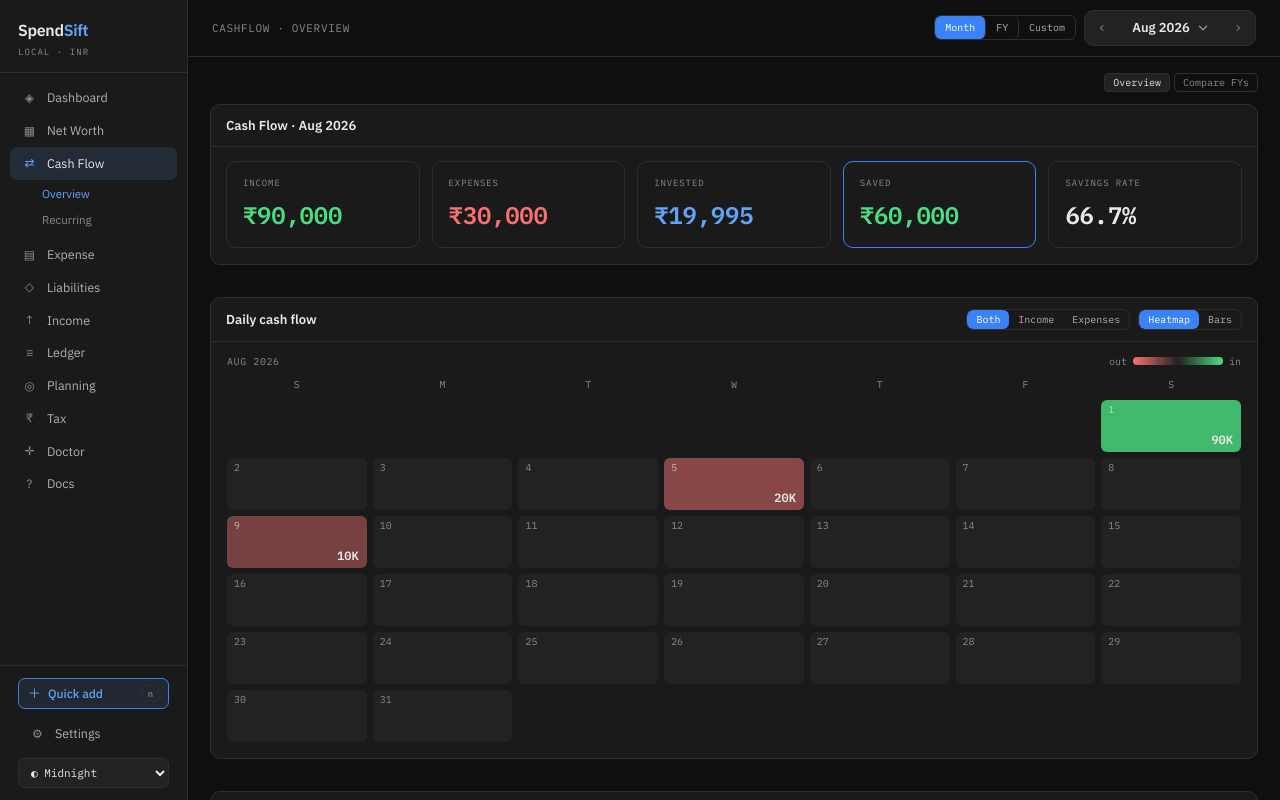
Test: Cash Flow · Overview | Compare FYs › the switch shows the FY columns and hides the period toggle
Expected: the text "Cash Flow · Aug 2026" is shown, [211,105,1257,148]
Expected: the element named "Period type" is shown, [934,16,1076,40]
Click the button "Compare FYs": (1216, 82) [1174,73,1258,92]
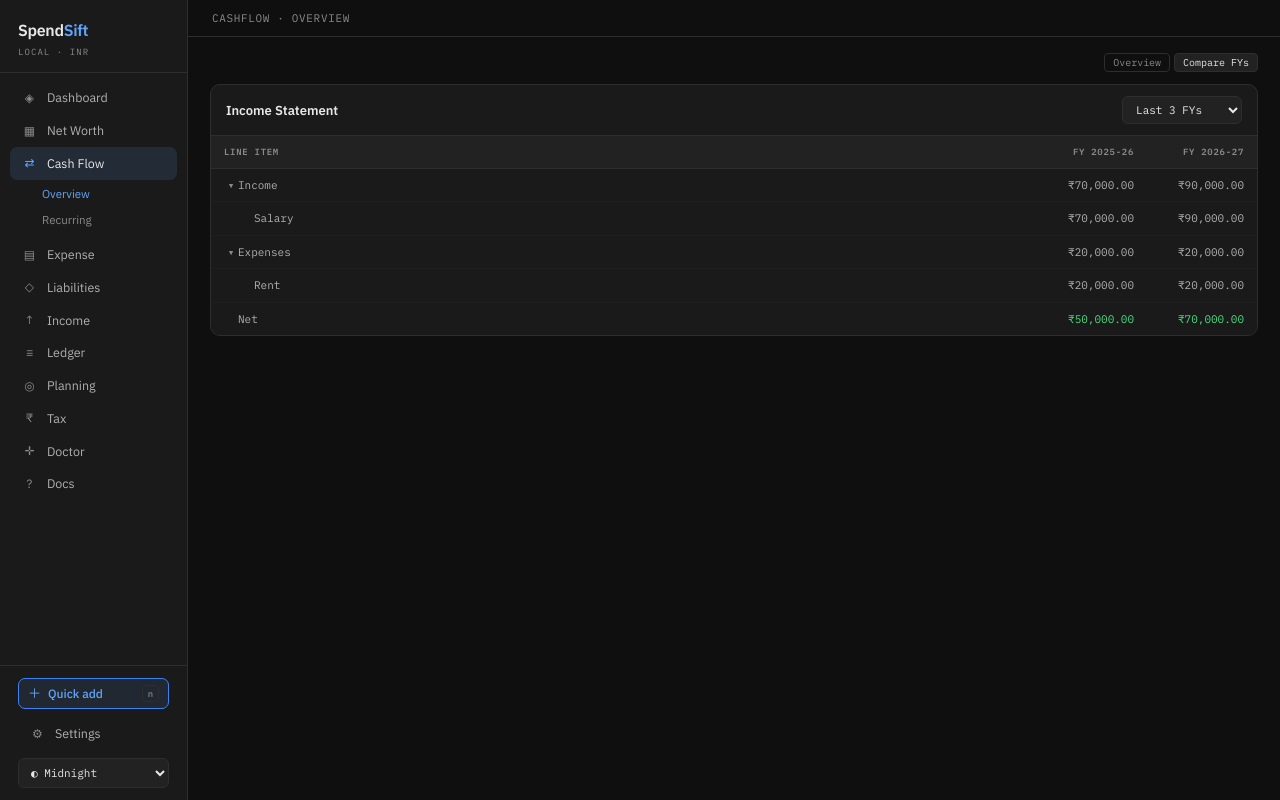
Expected: the column heading "FY 2025-26" is shown, [1037,136,1147,168]
Expected: the column heading "FY 2026-27" is shown, [1147,136,1257,168]
